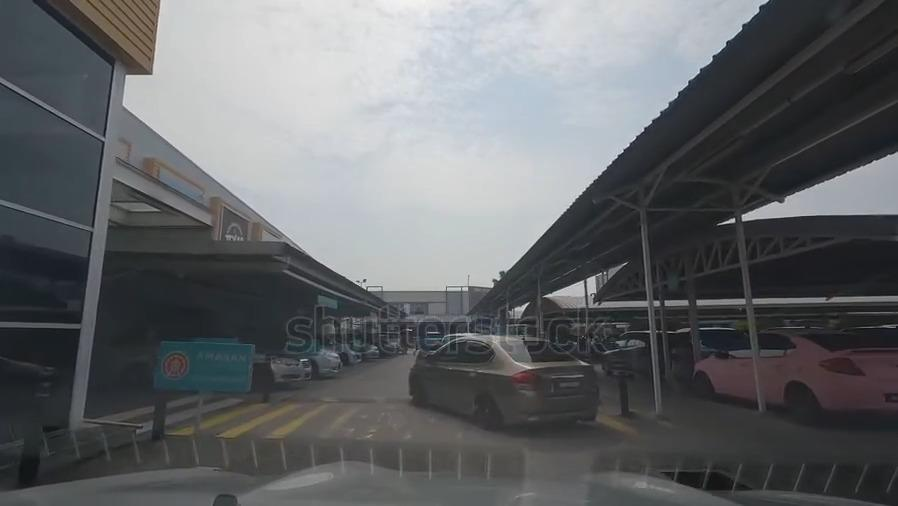car: (409, 339, 592, 423), (694, 337, 898, 407), (101, 336, 296, 387), (601, 334, 686, 374), (308, 346, 343, 373), (336, 342, 360, 364), (294, 355, 313, 379), (358, 342, 379, 359), (424, 331, 443, 348)
manhole: (657, 464, 754, 499)
pedestrian: (163, 407, 674, 443)
speedbump: (279, 393, 415, 407)
wheel: (117, 363, 148, 391), (473, 393, 496, 423), (409, 373, 425, 403), (259, 364, 275, 389)
